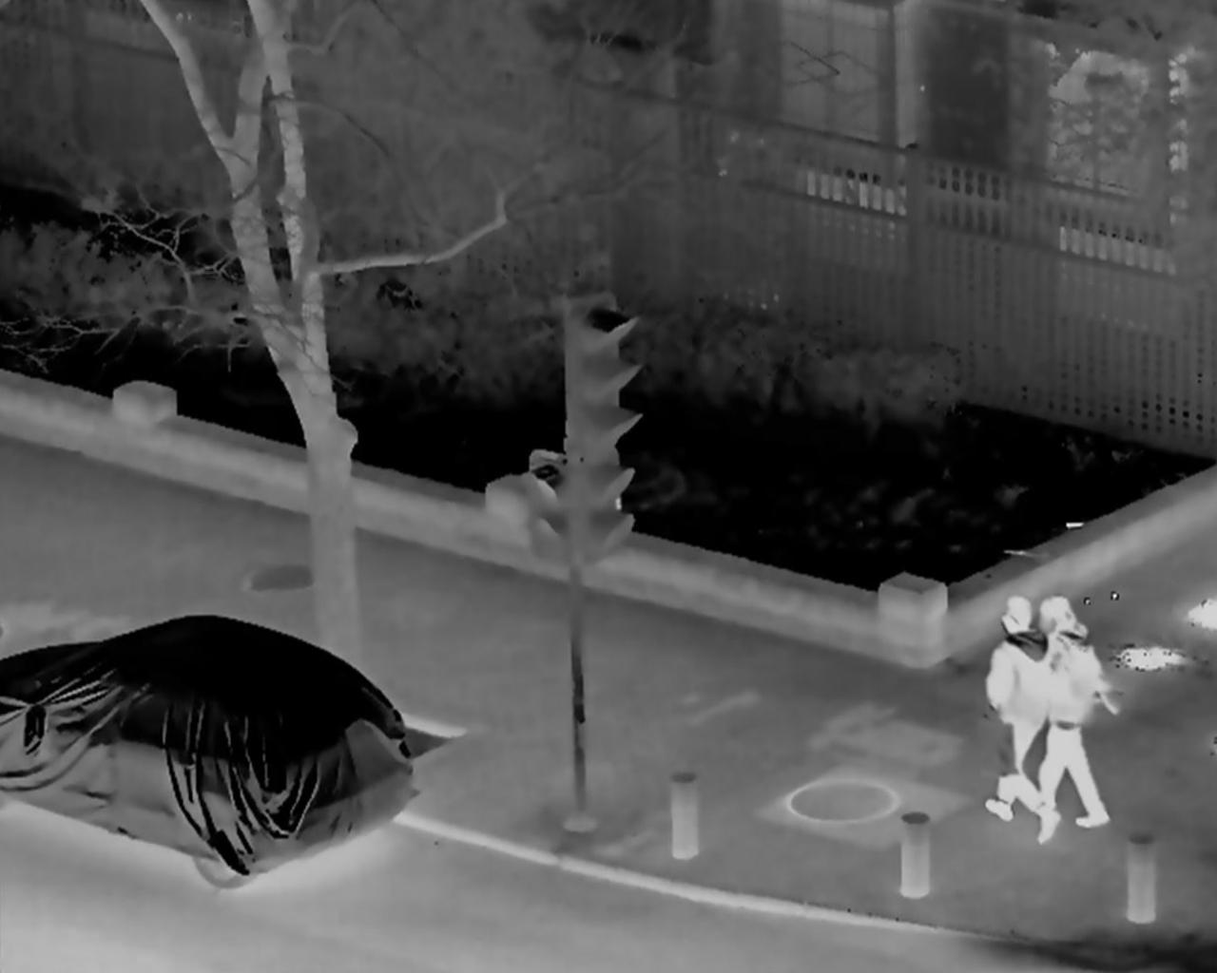person: (1021, 598, 1122, 826), (981, 594, 1065, 839)
